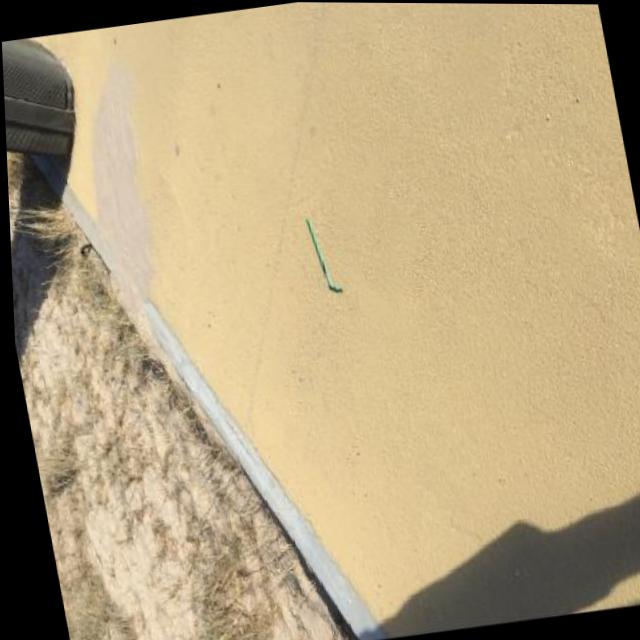plastic: (305, 214, 344, 297)
